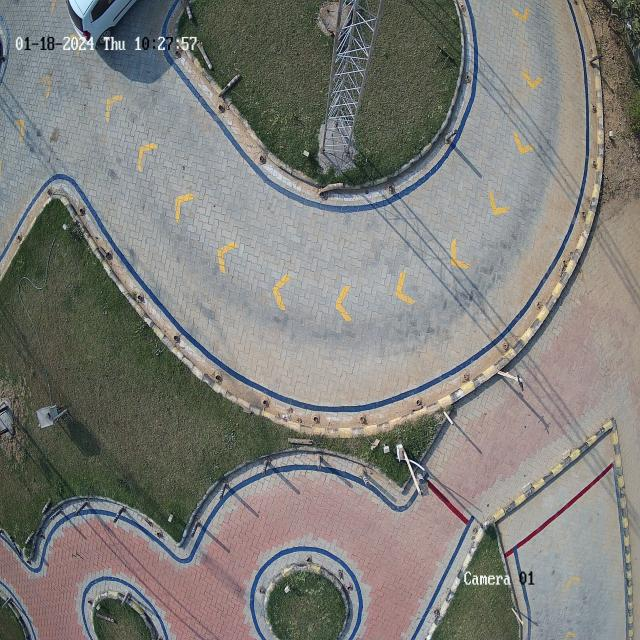car: (65, 0, 138, 50)
